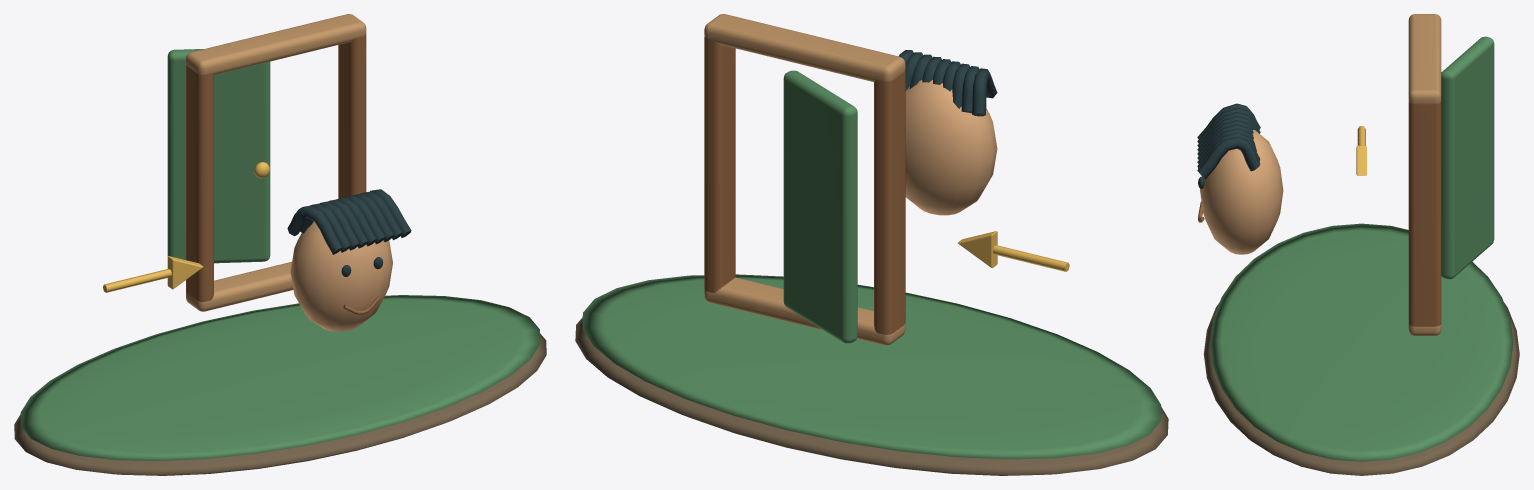
Rendered from front-face.glb.
3 renders of one model, left to right at view 1: azimuth 30°, elevation 25°; view 2: azimuth 150°, elevation 25°; view 3: azimuth 270°, elevation 25°, orthographic. The views are drawn at different scales.
Visible parts, largest first — view 1: front-face_surface_01, front-face_surface_05, front-face_surface_00, front-face_surface_06, front-face_surface_03, front-face_surface_04, front-face_surface_02; view 2: front-face_surface_01, front-face_surface_05, front-face_surface_00, front-face_surface_03, front-face_surface_06, front-face_surface_04, front-face_surface_02; view 3: front-face_surface_01, front-face_surface_05, front-face_surface_03, front-face_surface_00, front-face_surface_06, front-face_surface_04, front-face_surface_02.
Boxes of the visible parts, box(x1,y1,x2,y2) form: front-face_surface_01: box(20, 49, 540, 460); front-face_surface_05: box(186, 34, 380, 314); front-face_surface_00: box(14, 333, 546, 475); front-face_surface_06: box(186, 14, 366, 311); front-face_surface_03: box(290, 221, 392, 331); front-face_surface_04: box(287, 189, 411, 276); front-face_surface_02: box(103, 162, 269, 292); front-face_surface_01: box(582, 70, 1161, 459); front-face_surface_05: box(704, 36, 905, 334); front-face_surface_00: box(575, 317, 1168, 475); front-face_surface_03: box(905, 80, 997, 215); front-face_surface_06: box(704, 14, 905, 345); front-face_surface_04: box(899, 50, 997, 116); front-face_surface_02: box(958, 231, 1069, 271); front-face_surface_01: box(1210, 36, 1513, 461); front-face_surface_05: box(1198, 101, 1441, 326); front-face_surface_03: box(1200, 130, 1283, 254); front-face_surface_00: box(1203, 302, 1519, 475); front-face_surface_06: box(1408, 14, 1441, 335); front-face_surface_04: box(1197, 103, 1260, 188); front-face_surface_02: box(1356, 126, 1366, 175).
Bounding box in the file's own units: 4.56 × 2.88 × 2.55.
